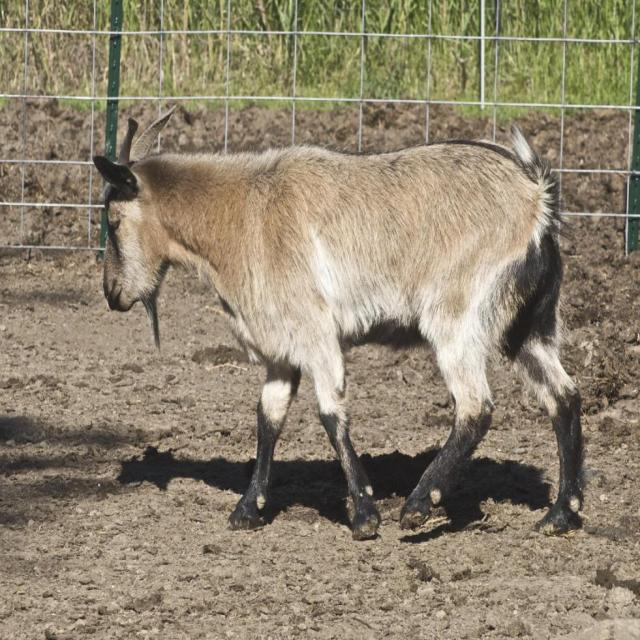Goat: (101, 100, 584, 535)
